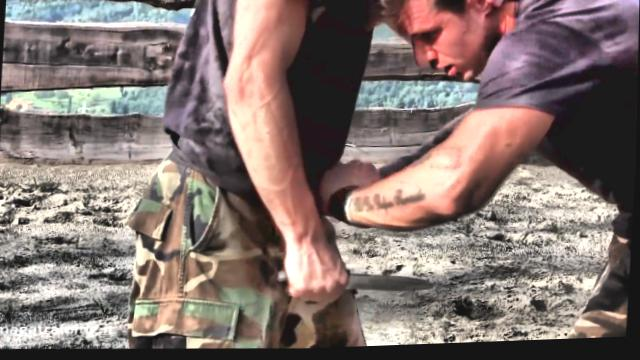knife: (274, 256, 444, 312)
